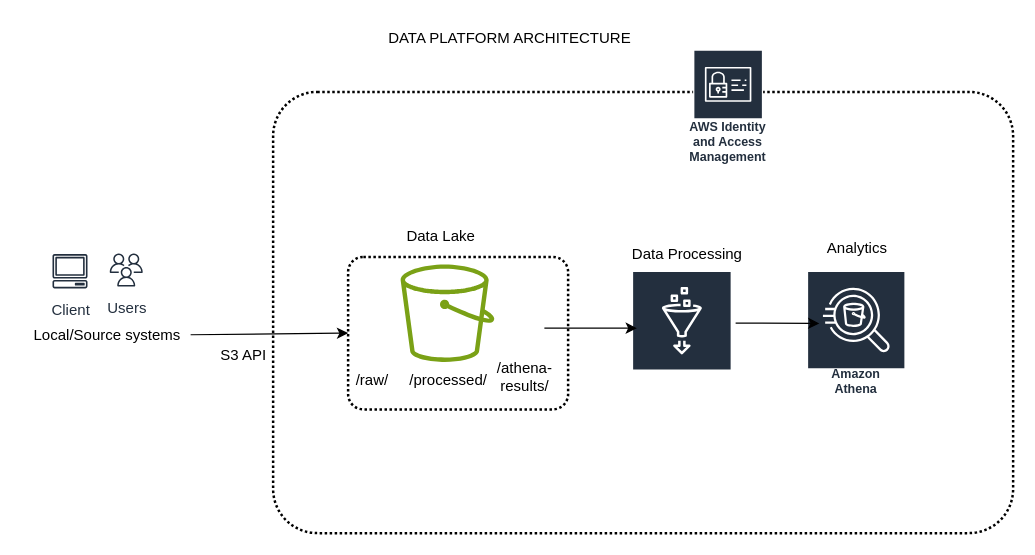
Some shapes in this 1035 by 555 pixel diagram are drawn without their labels. Here are the shapes that lost their labels. From the top down, the centre of each, then its label:
At point (447, 312): "Amazon S3".
At point (681, 332): "AWS Glue".
